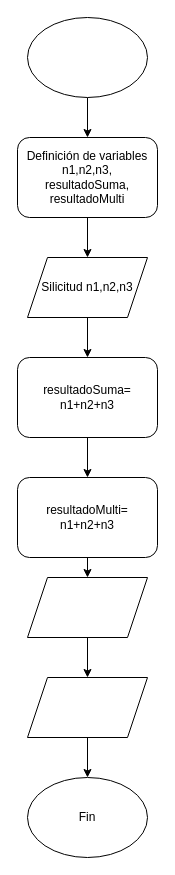
Image size: 175x875. Some labels were removed from this diagram. The centre of each missing label's shape, as x and y in pixels:
Imprimir resultadoMulti: point 87,707
Imprimir resultadoSuma: point 87,607
Inicio: point 87,57
